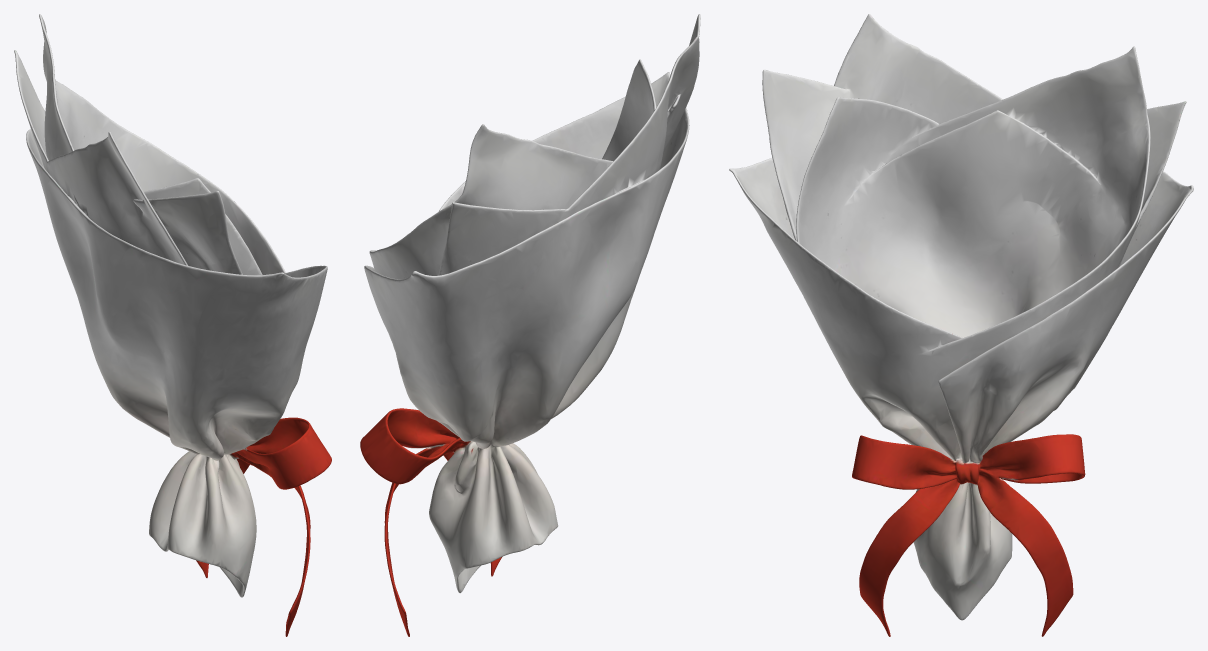
Rendered from Wrapper_White_Bouquet.glb.
3 renders of one model, left to right at view 1: azimuth 30°, elevation 25°; view 2: azimuth 150°, elevation 25°; view 3: azimuth 270°, elevation 25°, orthographic. The views are drawn at different scales.
Parts seen in each view (by area): view 1: tripo_node_f0854d0a-e360-4ddb-a1b5-af3d10a978a9; view 2: tripo_node_f0854d0a-e360-4ddb-a1b5-af3d10a978a9; view 3: tripo_node_f0854d0a-e360-4ddb-a1b5-af3d10a978a9.
Boxes of the visible parts, x1,y1,x2,y2 form: tripo_node_f0854d0a-e360-4ddb-a1b5-af3d10a978a9: (14, 14, 331, 636); tripo_node_f0854d0a-e360-4ddb-a1b5-af3d10a978a9: (360, 14, 700, 636); tripo_node_f0854d0a-e360-4ddb-a1b5-af3d10a978a9: (729, 14, 1193, 636).
Bounding box in the file's own units: 0.4308 × 1 × 0.7873.
1 material, 1 textured.
